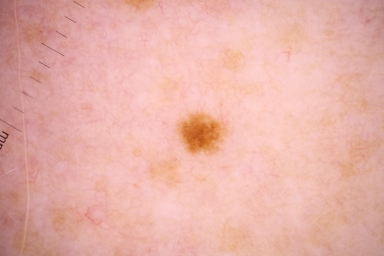melanoma: (180, 112, 220, 153)
